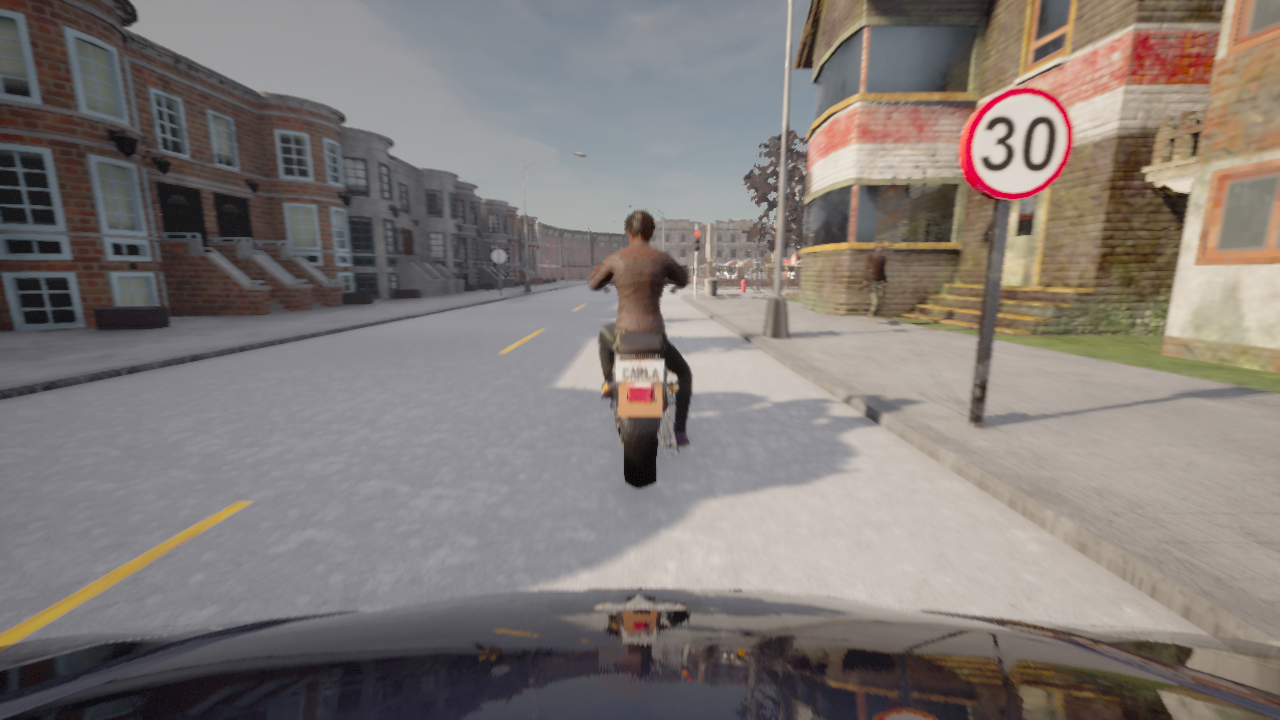cyclist: (0, 588, 1279, 719), (592, 265, 690, 488)
pedestrian: (862, 240, 888, 324)
